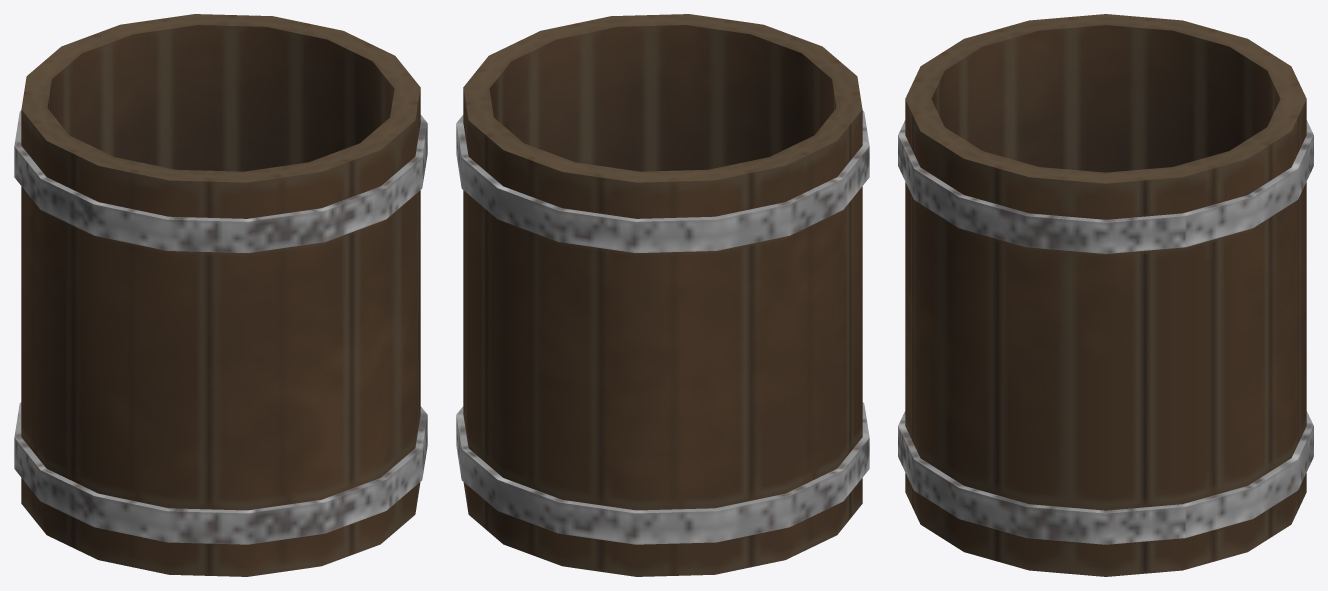
File: BARREL_3.fbx
3 views of the same model, side by side, from view 1: azimuth 30°, elevation 25°; view 2: azimuth 150°, elevation 25°; view 3: azimuth 270°, elevation 25° (orthographic).
Parts seen in each view (by area): view 1: BARREL_3_low; view 2: BARREL_3_low; view 3: BARREL_3_low.
Boxes of the visible parts, left/top/right/bottom form: BARREL_3_low: left=14, top=14, right=427, bottom=576; BARREL_3_low: left=456, top=14, right=869, bottom=576; BARREL_3_low: left=898, top=14, right=1313, bottom=576.
Size of the model in its own units: 52 by 54.28 by 52.
